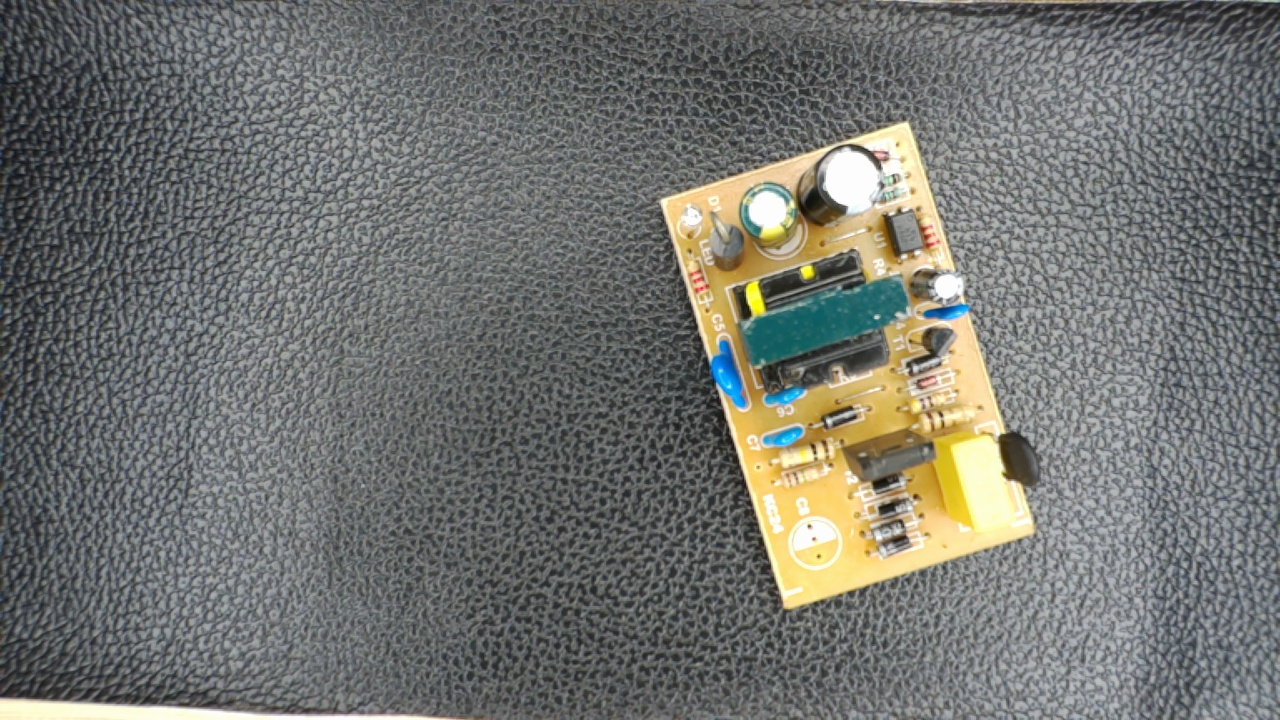fuse: (980, 423, 1052, 492)
mov: (702, 329, 753, 413)
optocoupler: (878, 203, 929, 264)
